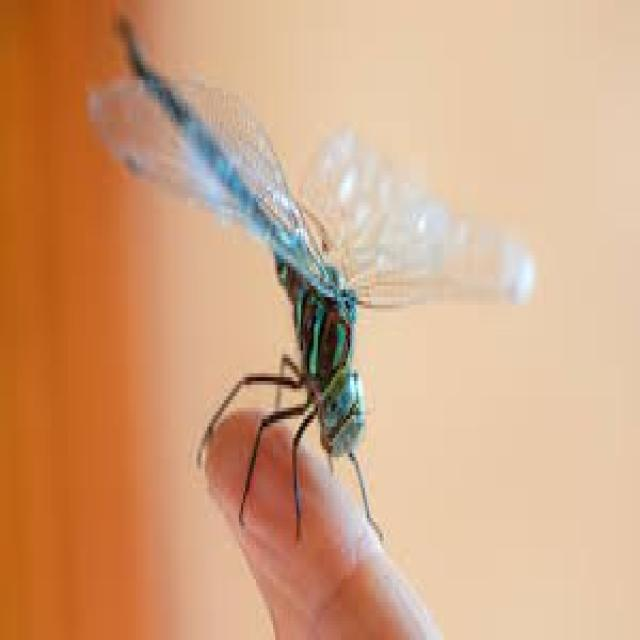dragonfly: (87, 19, 531, 533)
